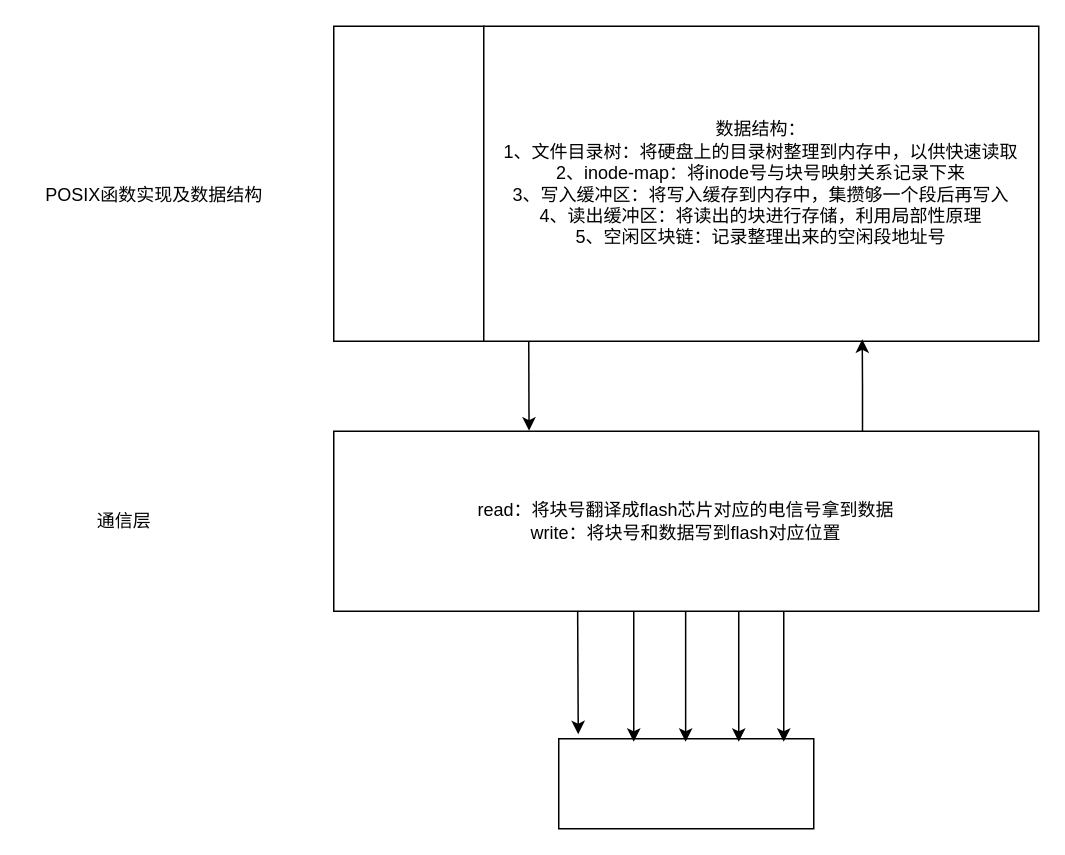
The diagram is 1065 pixels wide and 855 high, and some of its shapes have lost their labels. The shapes that lost their labels are listed below. From the top down, each one's box as (x1, y1, x2, y2) in pixels, then its label:
(332, 25, 484, 341): 一期函数集： open create close read write mkdir
(557, 737, 814, 829): Flash芯片
